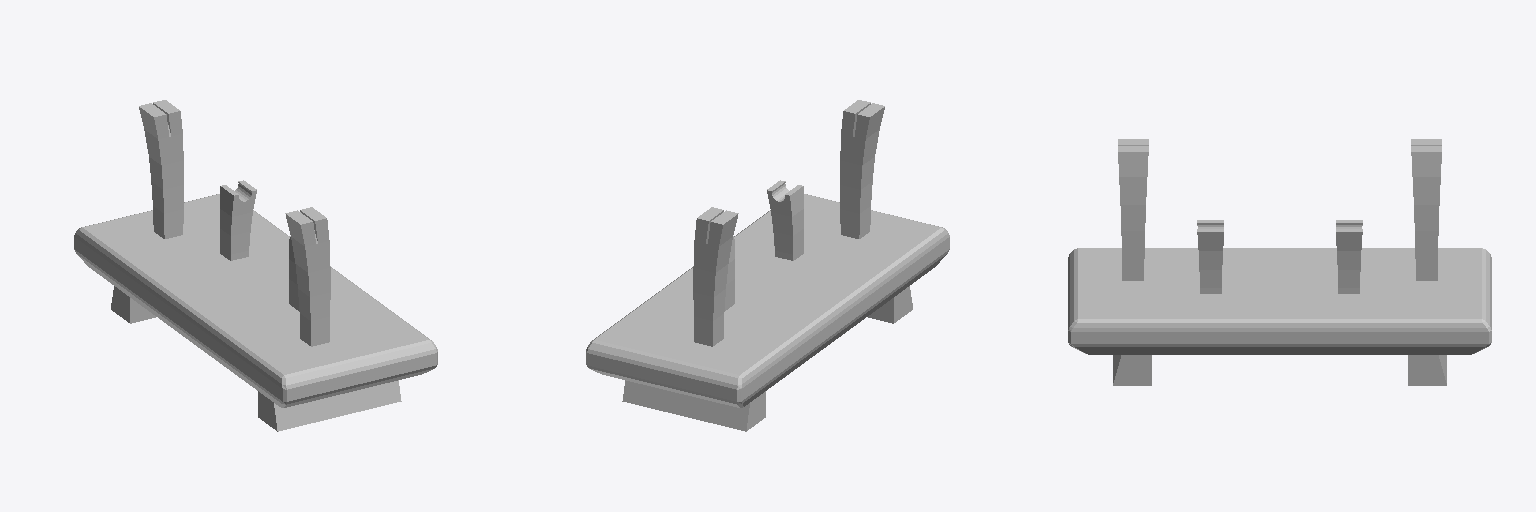
Rendered from Stand.obj.
3 renders of one model, left to right at view 1: azimuth 30°, elevation 25°; view 2: azimuth 150°, elevation 25°; view 3: azimuth 270°, elevation 25°, orthographic.
Size of the model in its own units: 24.13 by 29.48 by 56.88.